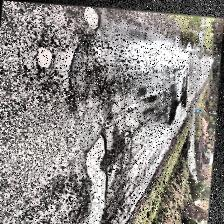pothole: (79, 130, 117, 224), (32, 43, 60, 71), (78, 4, 104, 30)
